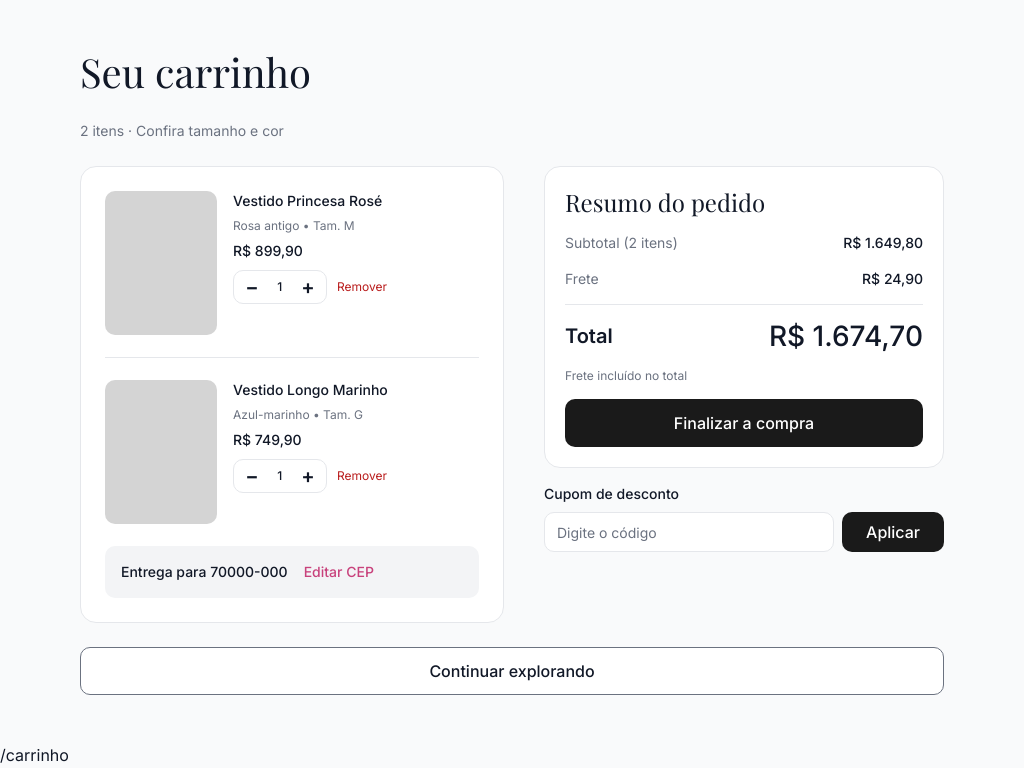
CarrinhoPage › com itens › Manter no carrinho fecha o diálogo sem remover
Click the button named "Remover Vestido Princesa Rosé" at (362, 287), box [337, 278, 387, 296]
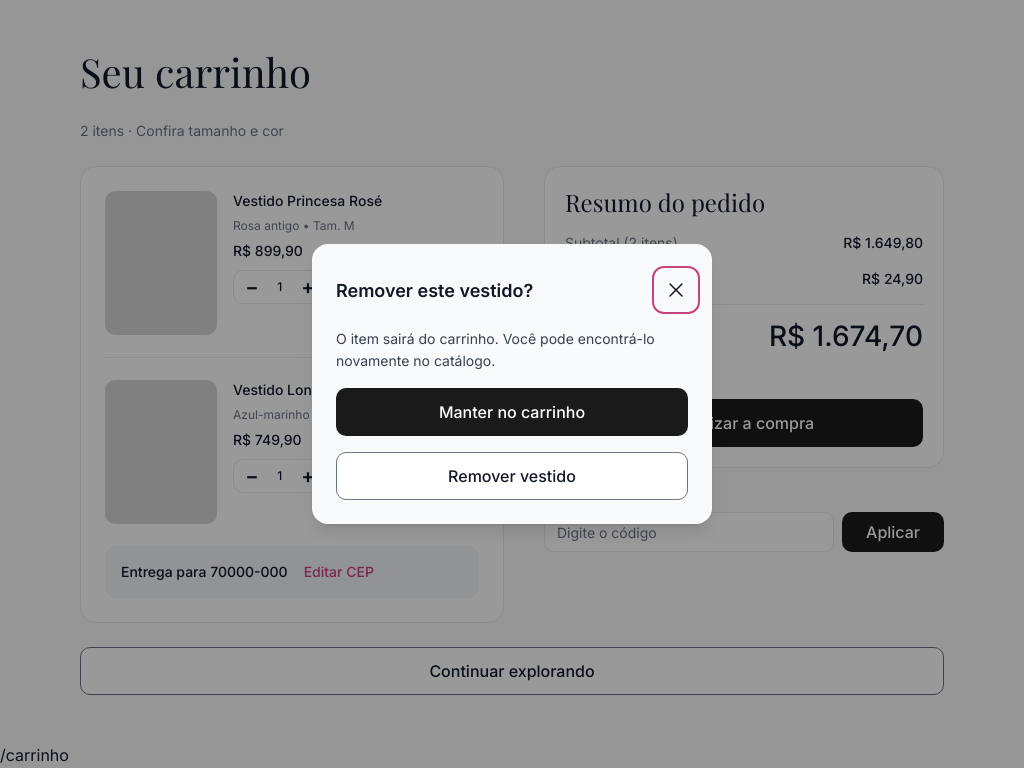
Click the button "Manter no carrinho" at (512, 412), box [336, 388, 688, 436]
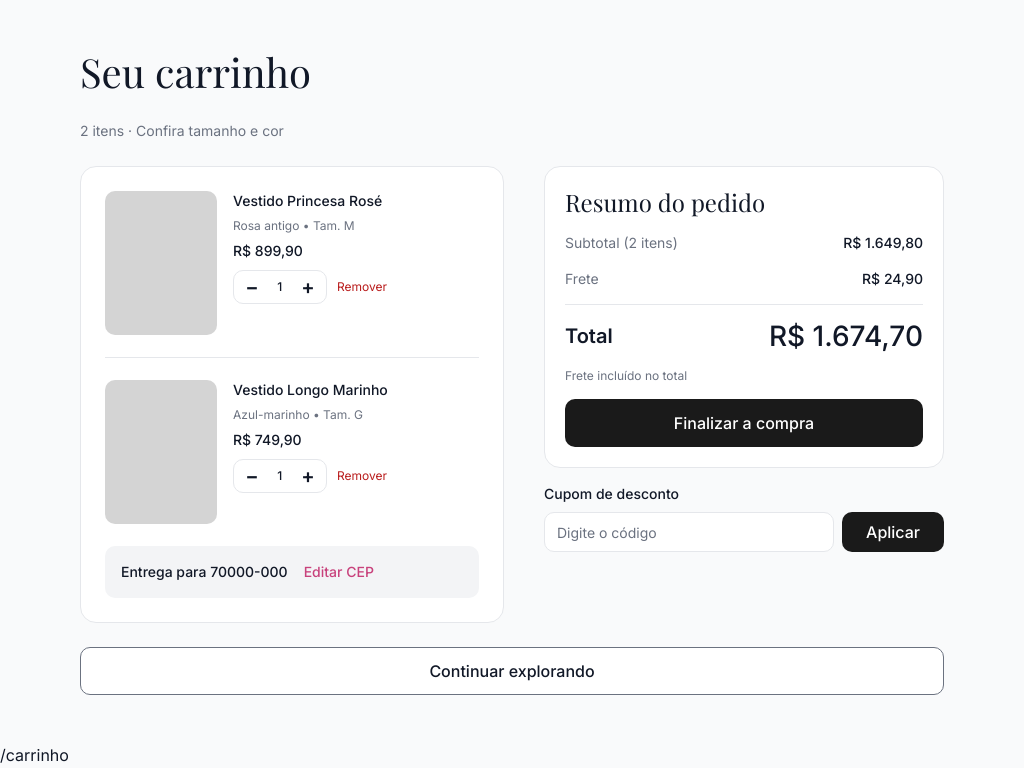
Check: the number of elements with test id "cart-line-item" is 2, box [105, 191, 479, 335]; [105, 380, 479, 524]
Check: the dialog is gone
